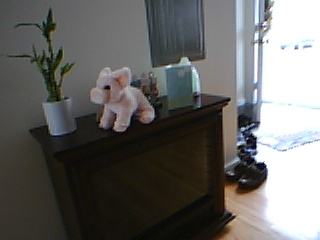piggy: (88, 66, 156, 133)
